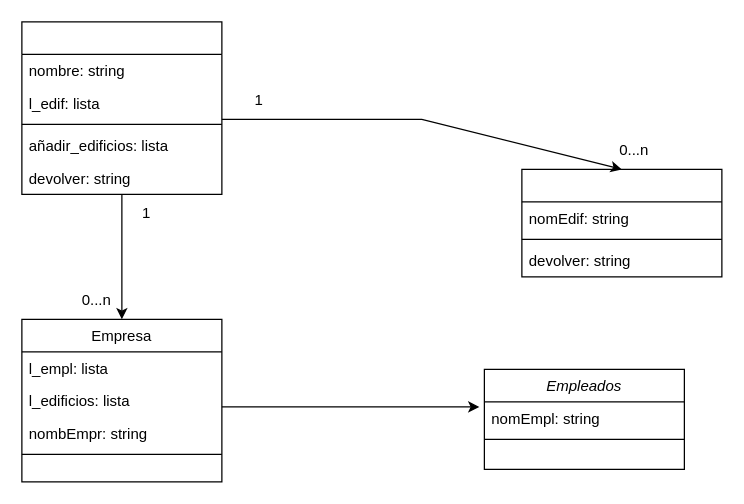
Some shapes in this 744 by 504 pixel diagram are drawn without their labels. Each missing label, with the box of its shape:
Ciudades: (21, 21, 222, 194)
Edificios: (521, 168, 722, 277)
